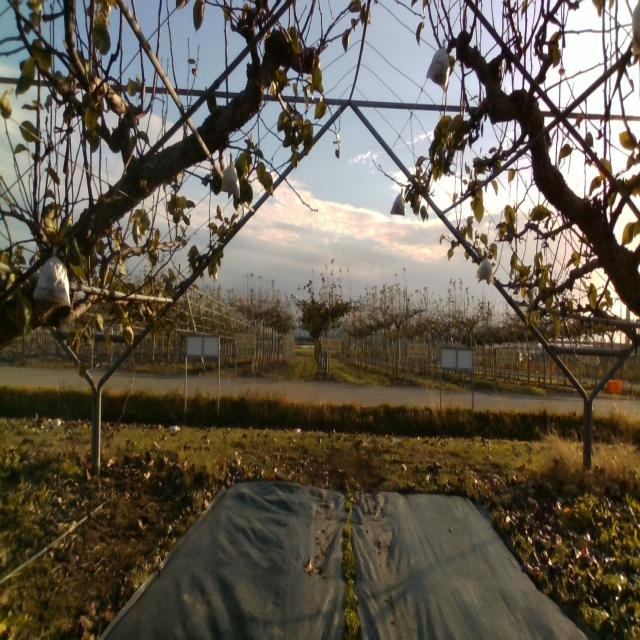pearbags: (35, 242, 72, 312), (426, 46, 450, 88), (220, 152, 241, 200), (475, 255, 495, 282), (390, 189, 404, 217)
